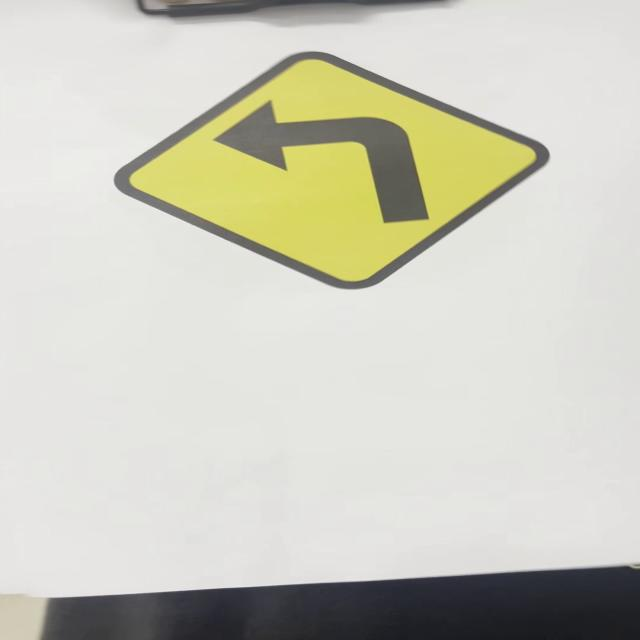left: (114, 51, 555, 290)
